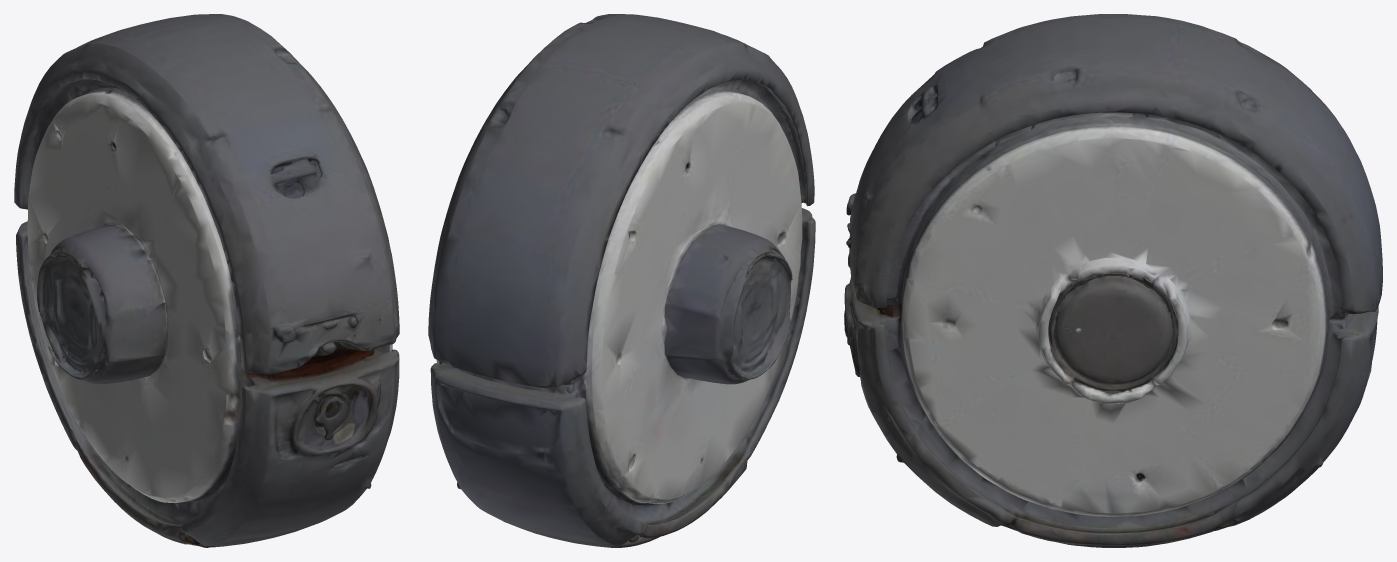
Rendered from robotvac-web.glb.
3 renders of one model, left to right at view 1: azimuth 30°, elevation 25°; view 2: azimuth 150°, elevation 25°; view 3: azimuth 270°, elevation 25°, orthographic. The views are drawn at different scales.
Parts seen in each view (by area): view 1: tripo_node_fc6b405e-1882-4561-9700-e54406c1a10a; view 2: tripo_node_fc6b405e-1882-4561-9700-e54406c1a10a; view 3: tripo_node_fc6b405e-1882-4561-9700-e54406c1a10a.
Boxes of the visible parts, x1=… form: tripo_node_fc6b405e-1882-4561-9700-e54406c1a10a: x1=14, y1=14, x2=399, y2=547; tripo_node_fc6b405e-1882-4561-9700-e54406c1a10a: x1=428, y1=14, x2=815, y2=547; tripo_node_fc6b405e-1882-4561-9700-e54406c1a10a: x1=844, y1=14, x2=1382, y2=547.
Bounding box in the file's own units: 0.5354 × 0.9997 × 0.9953.
Materials: 1 (1 with a texture image).
